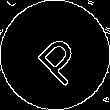P_NW: (24, 24, 86, 86)
